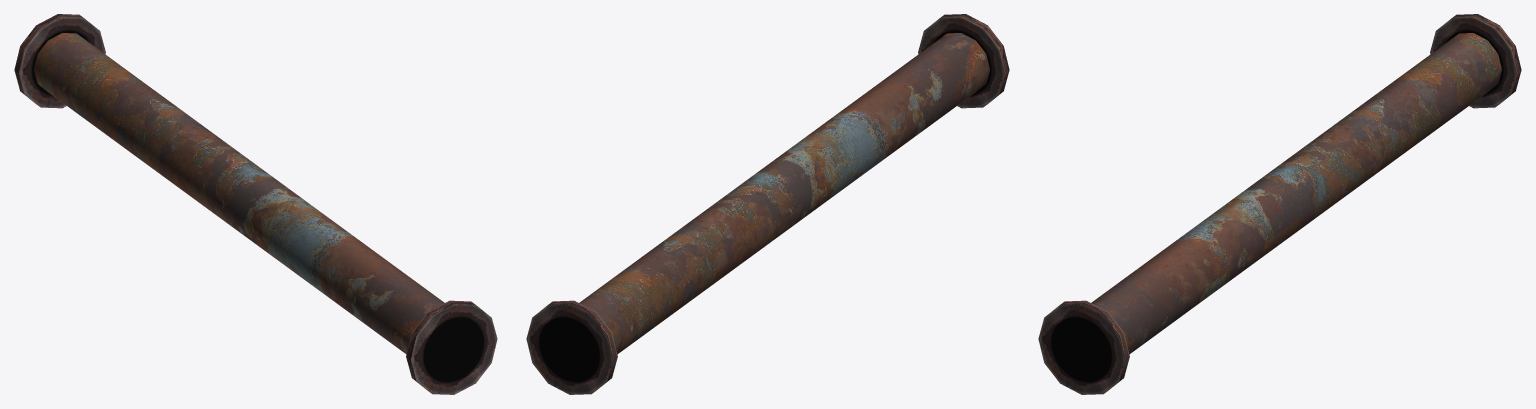
Rendered from pipe02_300cm.fbx.
The picture shows the model from 3 angles, left to right: view 1: azimuth 30°, elevation 25°; view 2: azimuth 150°, elevation 25°; view 3: azimuth 330°, elevation 25°; orthographic projection.
Visible parts, largest first — view 1: pipe02_300cm; view 2: pipe02_300cm; view 3: pipe02_300cm.
Part boxes in pixels (<box>): pipe02_300cm: <box>14,14,497,394</box>; pipe02_300cm: <box>526,14,1009,394</box>; pipe02_300cm: <box>1038,14,1521,394</box>.
Bounding box in the file's own units: 38 × 38 × 300.
